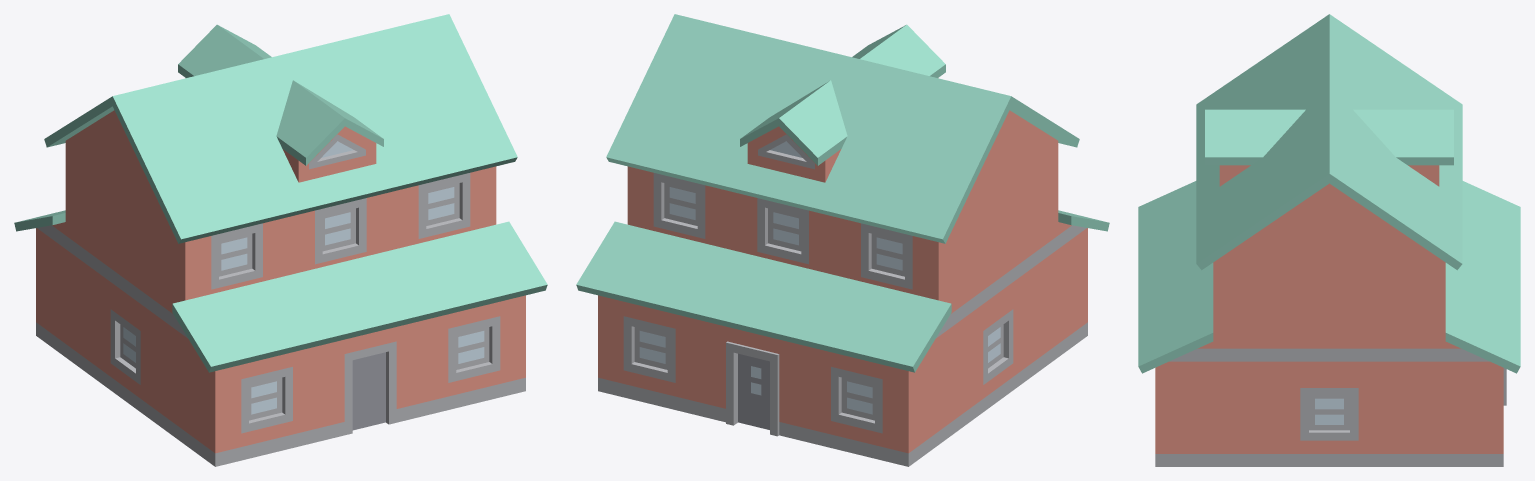
Rendered from Two story house.glb.
3 renders of one model, left to right at view 1: azimuth 30°, elevation 25°; view 2: azimuth 150°, elevation 25°; view 3: azimuth 270°, elevation 25°, orthographic. The views are drawn at different scales.
Visible parts, largest first — view 1: house_type06; view 2: house_type06; view 3: house_type06.
Part boxes in pixels (x1=…): house_type06: x1=14, y1=14, x2=547, y2=466; house_type06: x1=576, y1=14, x2=1109, y2=466; house_type06: x1=1138, y1=14, x2=1520, y2=466.
Bounding box in the file's own units: 1.3 × 1.14 × 1.32.
